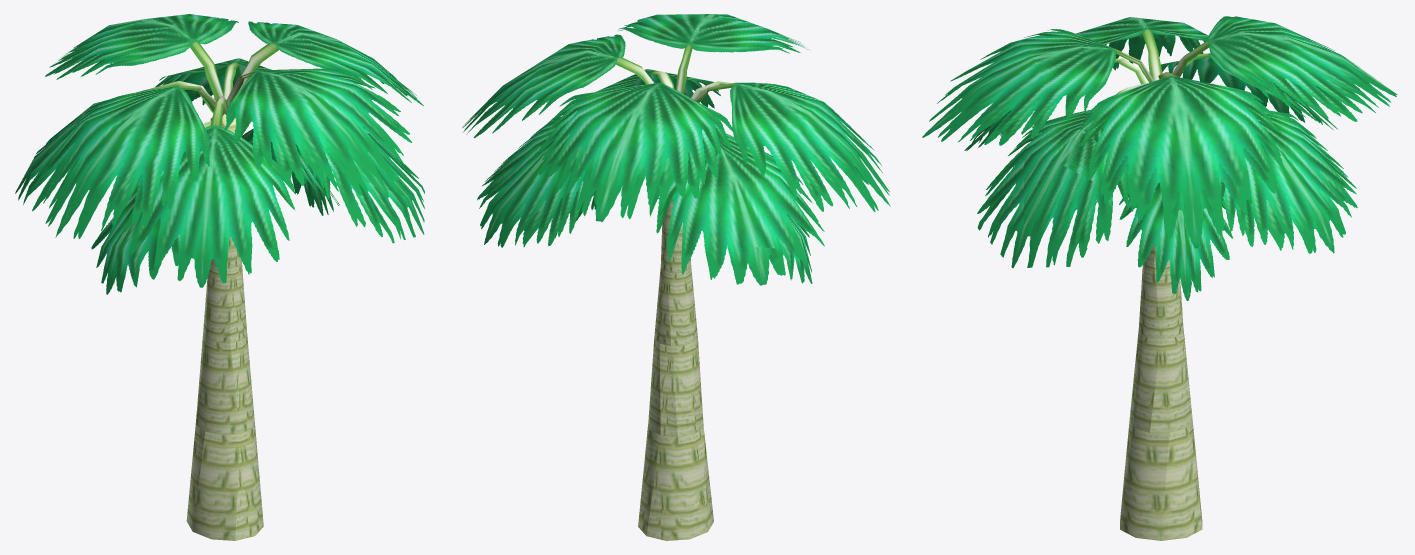
The model's file is Palm.obj.
3 renders of one model, left to right at view 1: azimuth 30°, elevation 25°; view 2: azimuth 150°, elevation 25°; view 3: azimuth 270°, elevation 25°, orthographic. The views are drawn at different scales.
Size of the model in its own units: 80.49 by 91.19 by 81.45.
2 materials, 2 textured.
